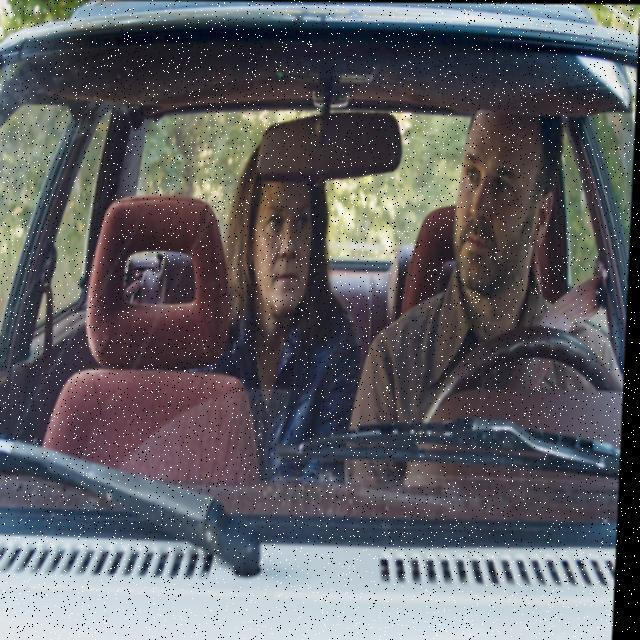noSeatbelt: (232, 268, 362, 481)
seatbelt: (506, 248, 616, 389)
